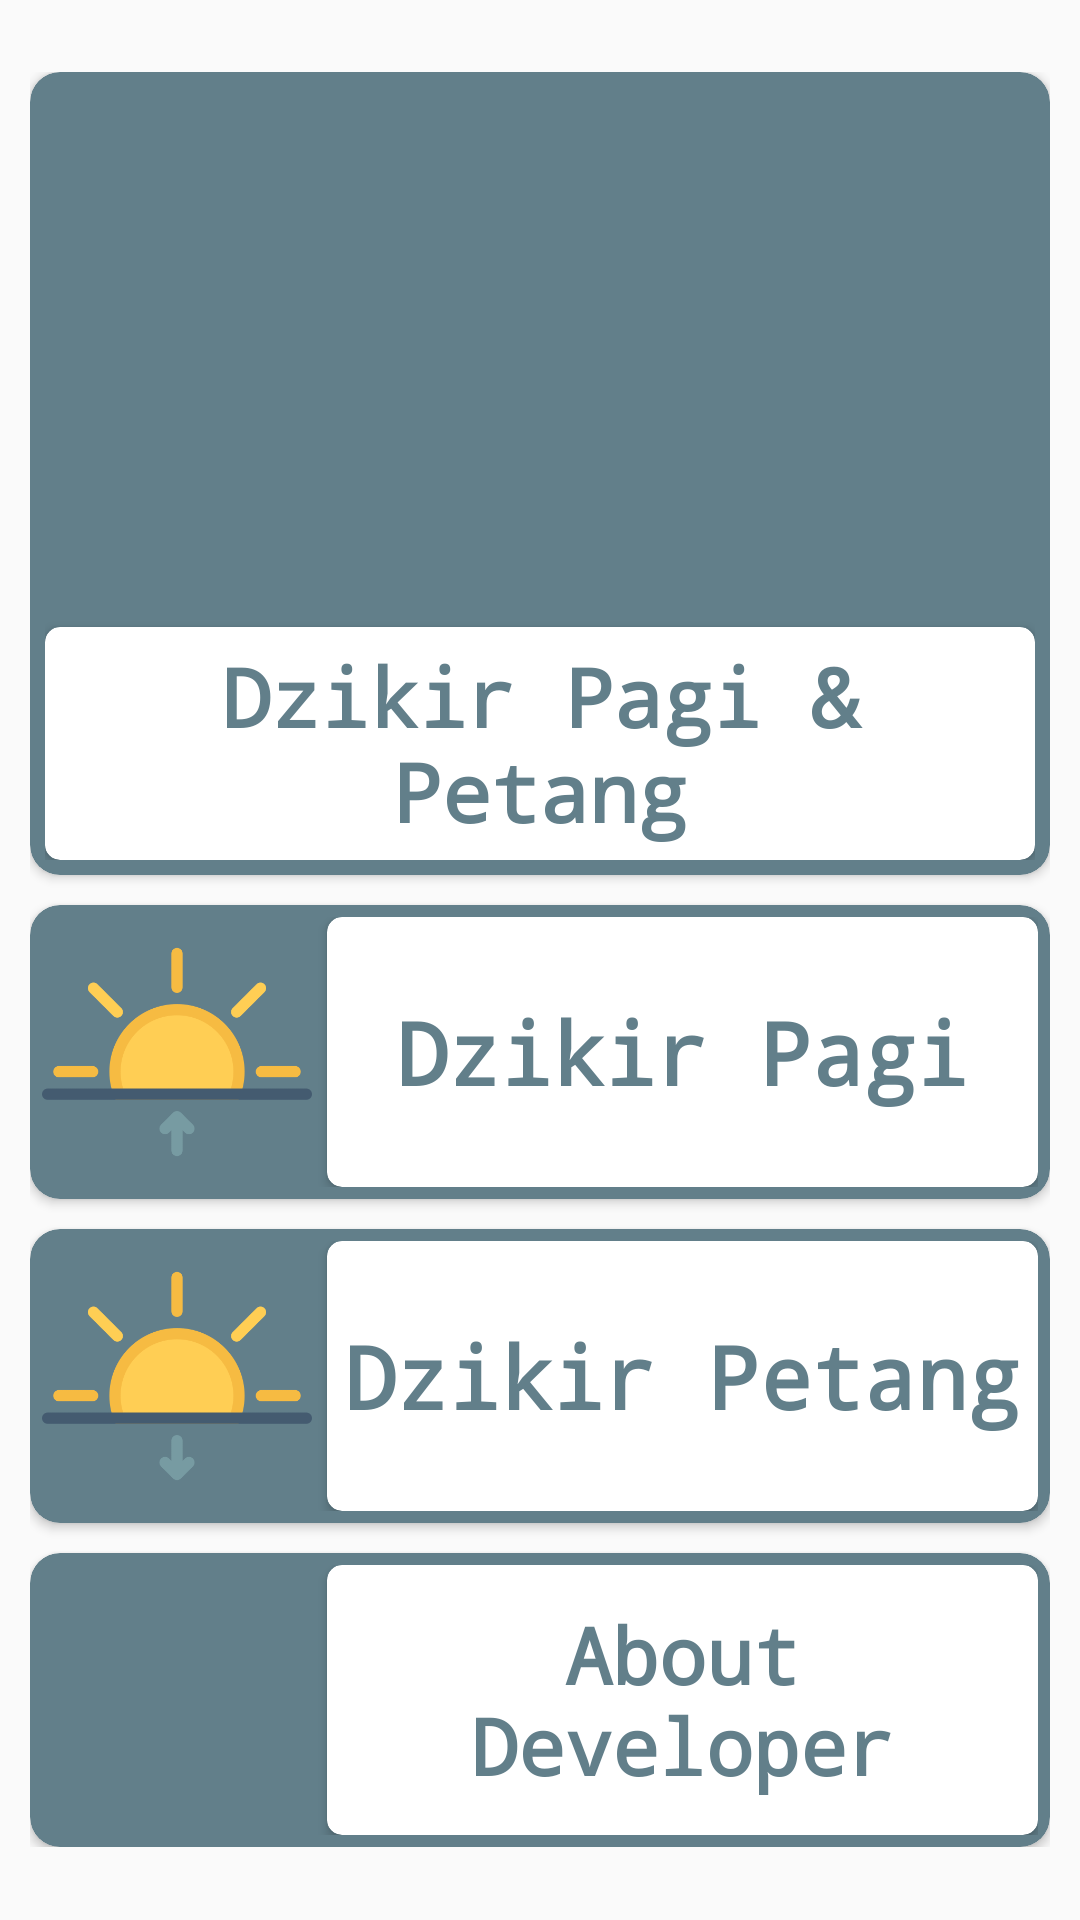

Where icons sit on this 1080 × 1920 app screen, as [x1,y1,x2,y2]:
sunrise: [42,948,312,1156]
sunset: [42,1272,312,1480]
